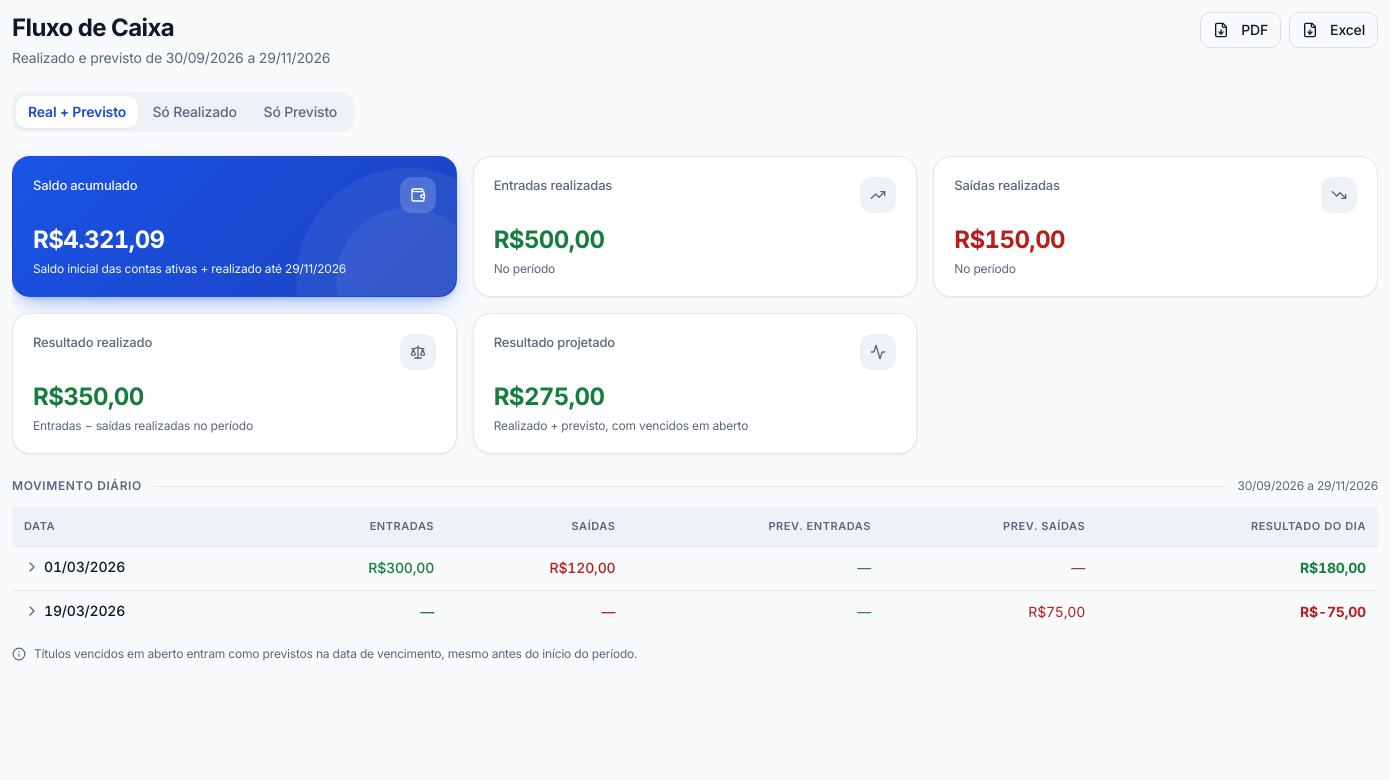
Test: Fluxo de Caixa (V2) › só previsto troca os cards de fluxo e filtra os dias
Expected: the text "Saldo acumulado" is shown, x1=33 y1=177 x2=137 y2=193
Click the radio button labelled "Só Previsto". click: {"x": 300, "y": 112}
box: x1=251 y1=96 x2=350 y2=128
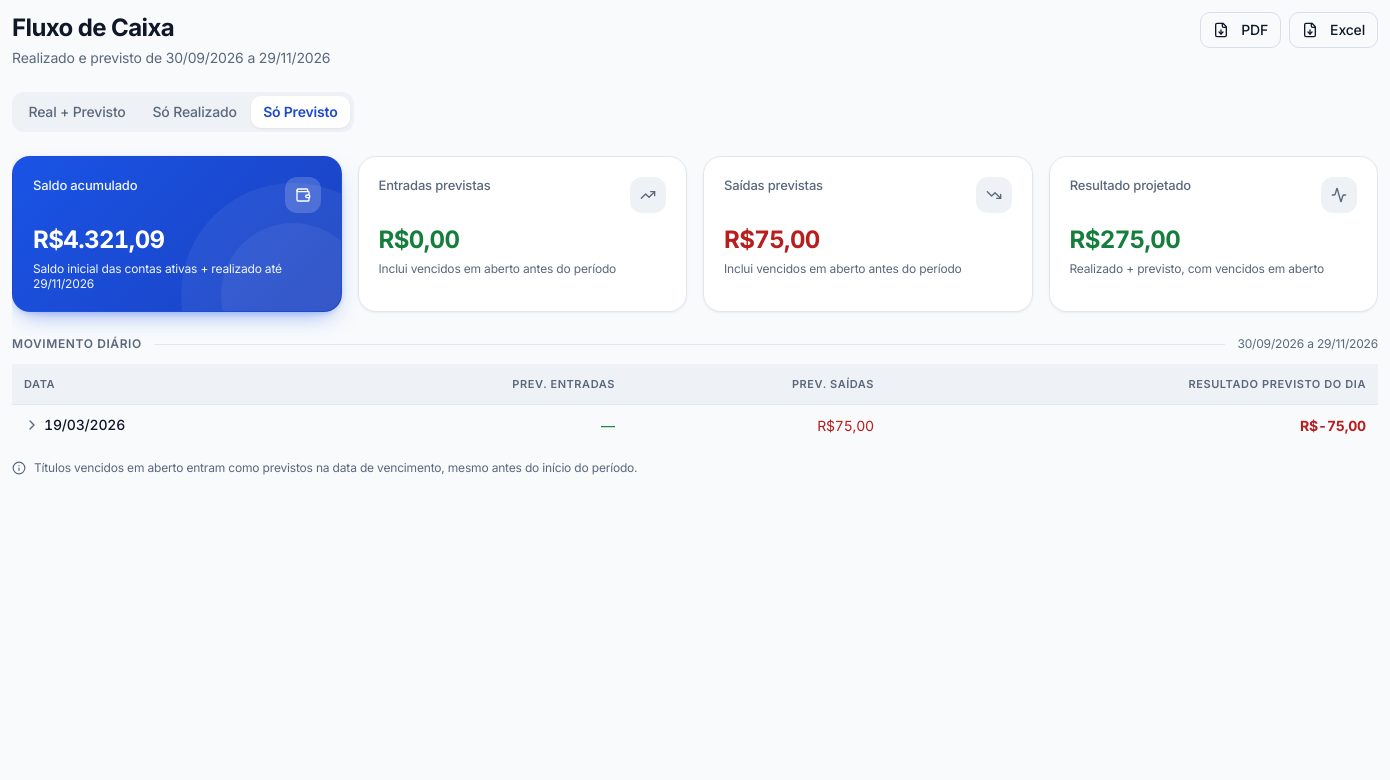
Expected: the text "Saídas previstas" is shown, x1=724 y1=177 x2=823 y2=193
Expected: the text "Entradas realizadas" is gone
Expected: the text "Inclui vencidos em aberto antes do período" is shown 2 times, x1=378 y1=261 x2=616 y2=276; x1=724 y1=261 x2=962 y2=276
